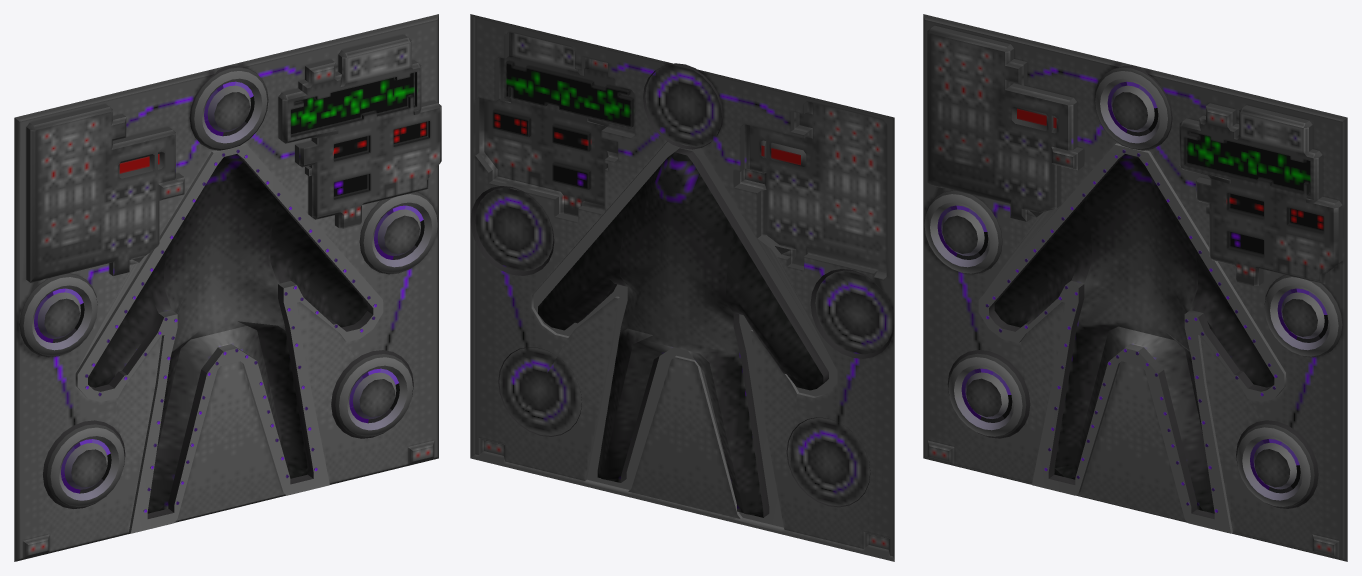
The model's file is med2_7.fbx.
3 renders of one model, left to right at view 1: azimuth 30°, elevation 25°; view 2: azimuth 150°, elevation 25°; view 3: azimuth 330°, elevation 25°, orthographic.
Parts seen in each view (by area): view 1: med2_7_mesh, med2_7ring_mesh5, med2_7ring_mesh1, med2_7ring_mesh2, med2_7ring_mesh3, med2_7ring_mesh4; view 2: med2_7_mesh; view 3: med2_7_mesh, med2_7ring_mesh3, med2_7ring_mesh4, med2_7ring_mesh5, med2_7ring_mesh1, med2_7ring_mesh2.
Part boxes in pixels (<box>): med2_7_mesh: <box>14,14,441,561</box>; med2_7ring_mesh5: <box>61,439,111,493</box>; med2_7ring_mesh1: <box>204,81,254,136</box>; med2_7ring_mesh2: <box>349,368,399,423</box>; med2_7ring_mesh3: <box>374,205,424,259</box>; med2_7ring_mesh4: <box>34,288,84,342</box>; med2_7_mesh: <box>470,14,894,561</box>; med2_7_mesh: <box>923,14,1347,561</box>; med2_7ring_mesh3: <box>1277,288,1328,342</box>; med2_7ring_mesh4: <box>937,205,988,259</box>; med2_7ring_mesh5: <box>961,368,1012,422</box>; med2_7ring_mesh1: <box>1107,81,1158,136</box>; med2_7ring_mesh2: <box>1250,439,1300,493</box>.
Bounding box in the file's own units: 256 × 256 × 24.
